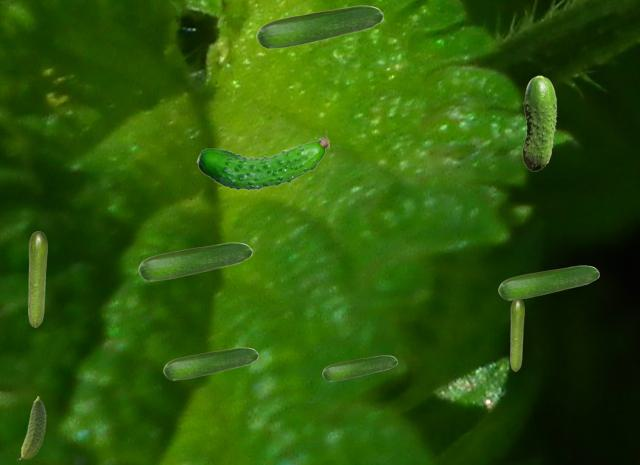cucumber: (196, 131, 328, 190), (256, 5, 382, 48), (138, 242, 251, 280), (498, 265, 598, 299), (522, 75, 556, 170), (163, 347, 257, 379), (322, 355, 396, 380), (17, 396, 45, 459), (28, 231, 46, 326), (510, 298, 523, 370)
